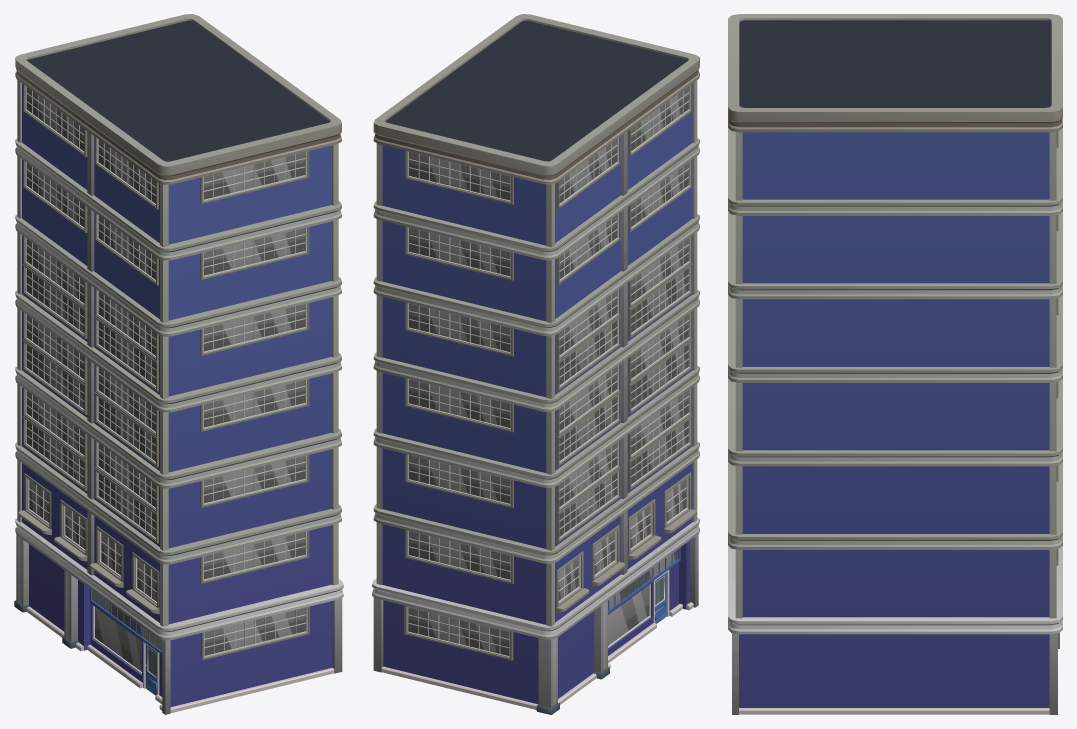
Rendered from Building_11_5_B.fbx.
3 renders of one model, left to right at view 1: azimuth 30°, elevation 25°; view 2: azimuth 150°, elevation 25°; view 3: azimuth 270°, elevation 25°, orthographic. The views are drawn at different scales.
Visible parts, largest first — view 1: Building_11_5_B; view 2: Building_11_5_B; view 3: Building_11_5_B.
Part boxes in pixels (box(x1,y1,x2,y2)): Building_11_5_B: box(14, 14, 343, 714); Building_11_5_B: box(372, 14, 699, 714); Building_11_5_B: box(728, 14, 1062, 714).
Size of the model in its own units: 827 by 2314 by 1163.
